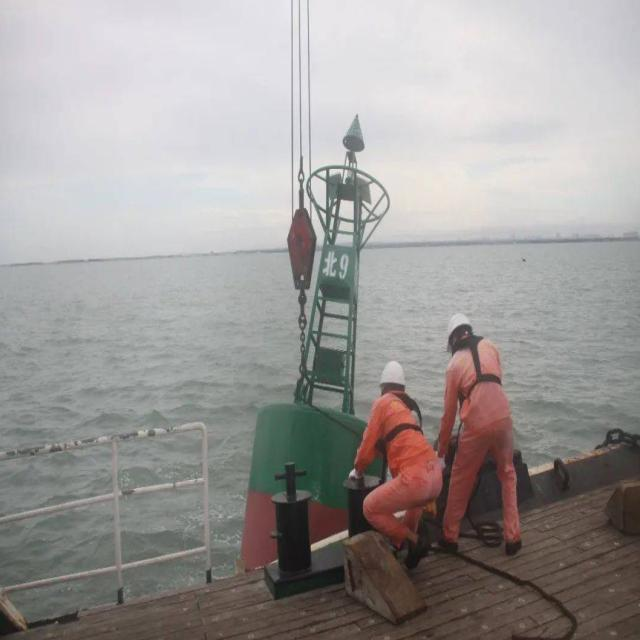buoy: (238, 104, 393, 569)
